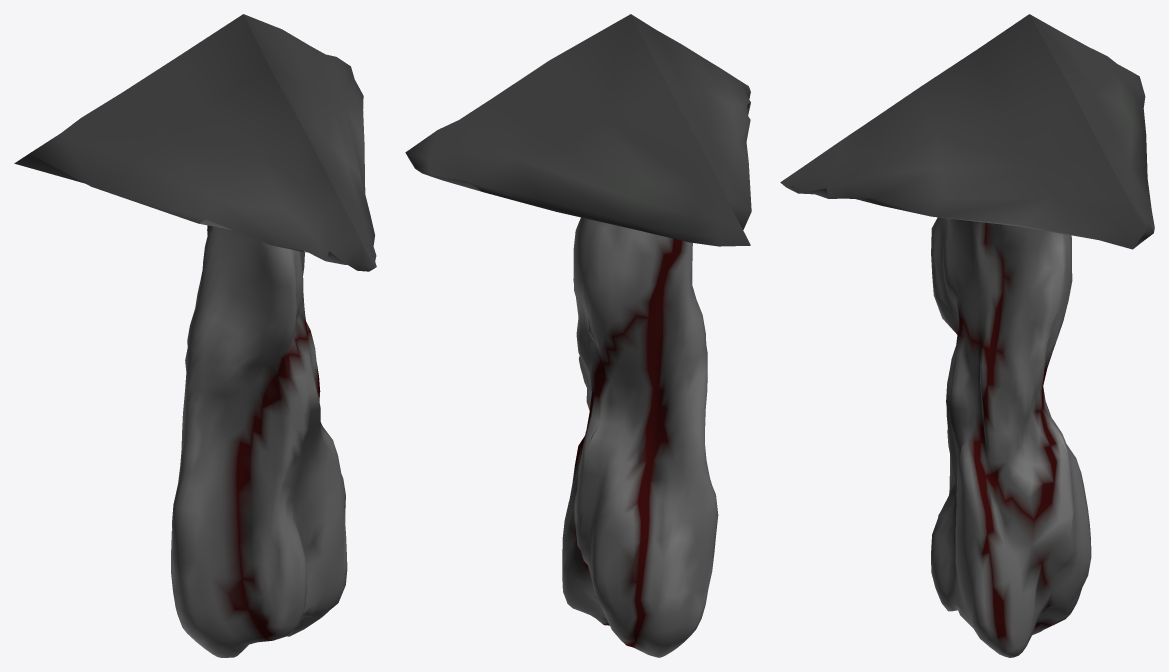
The model's file is monolith_horn.fbx.
3 renders of one model, left to right at view 1: azimuth 30°, elevation 25°; view 2: azimuth 150°, elevation 25°; view 3: azimuth 270°, elevation 25°, orthographic.
Parts seen in each view (by area): view 1: Projectile; view 2: Projectile; view 3: Projectile.
Boxes of the visible parts, left/top/right/bottom form: Projectile: left=14, top=14, right=376, bottom=657; Projectile: left=405, top=14, right=751, bottom=657; Projectile: left=780, top=14, right=1154, bottom=657.
Size of the model in its own units: 191 by 340 by 182.
